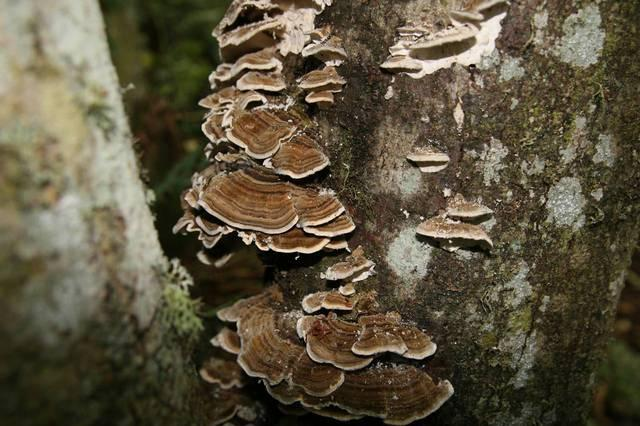poisonous_mushroom: (172, 0, 357, 257), (201, 251, 460, 426), (173, 160, 356, 255), (410, 125, 506, 264), (378, 0, 504, 78)
